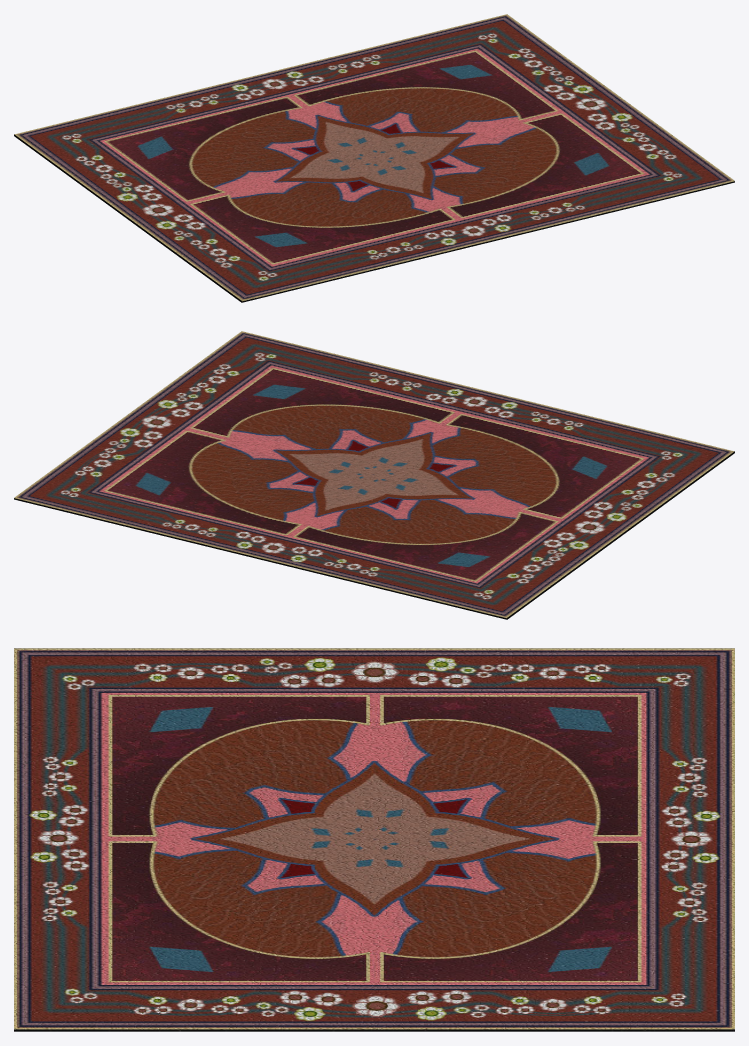
The model's file is Rug03_vi.fbx.
3 renders of one model, top to bottom at view 1: azimuth 30°, elevation 25°; view 2: azimuth 150°, elevation 25°; view 3: azimuth 270°, elevation 25°, orthographic. The views are drawn at different scales.
Parts seen in each view (by area): view 1: Rug03; view 2: Rug03; view 3: Rug03.
Boxes of the visible parts, box(x1,y1,x2,y2) form: Rug03: box(14, 14, 734, 302); Rug03: box(14, 331, 734, 619); Rug03: box(14, 648, 734, 1031).
Size of the model in its own units: 0.05 by 0.000161 by 0.04.
Materials: 1 (1 with a texture image).
